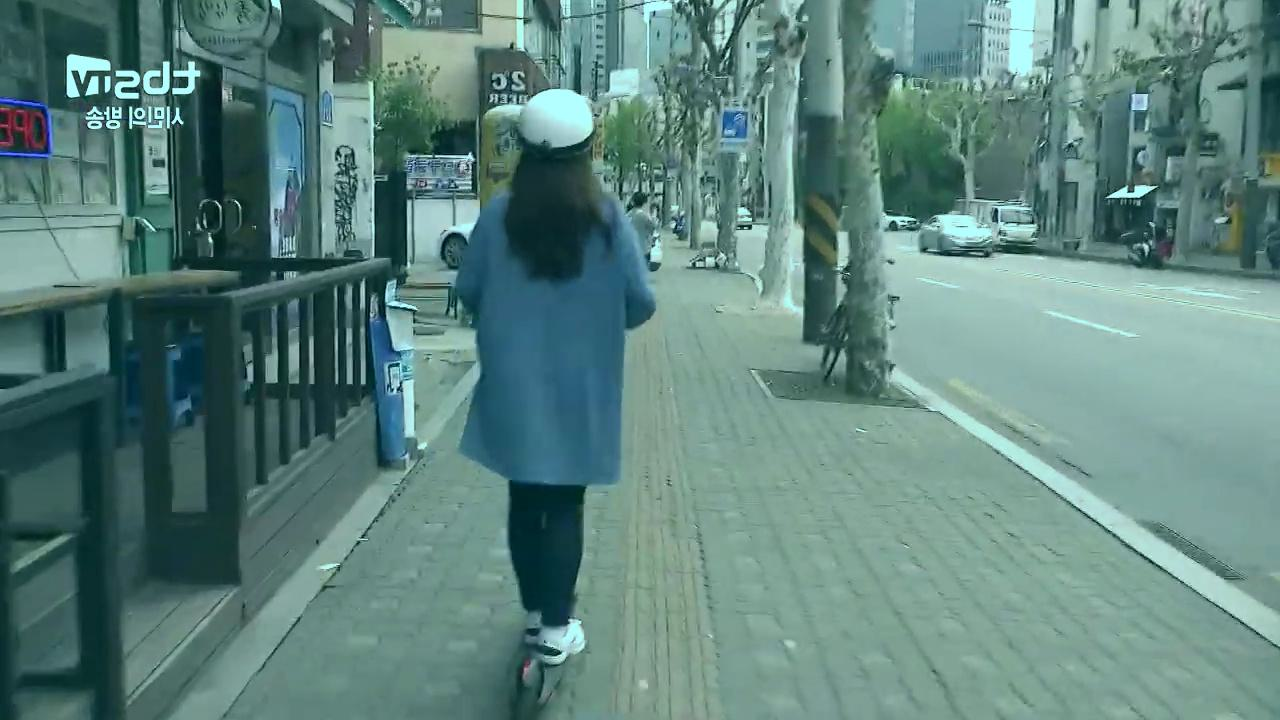helmet: (452, 86, 657, 720)
